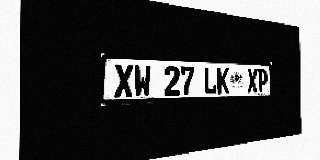2: (164, 65, 180, 96)
7: (180, 66, 194, 95)
K: (217, 67, 229, 94)
L: (204, 67, 217, 94)
P: (258, 69, 267, 93)
W: (134, 64, 151, 97)
X: (114, 64, 133, 98), (247, 68, 257, 93)
